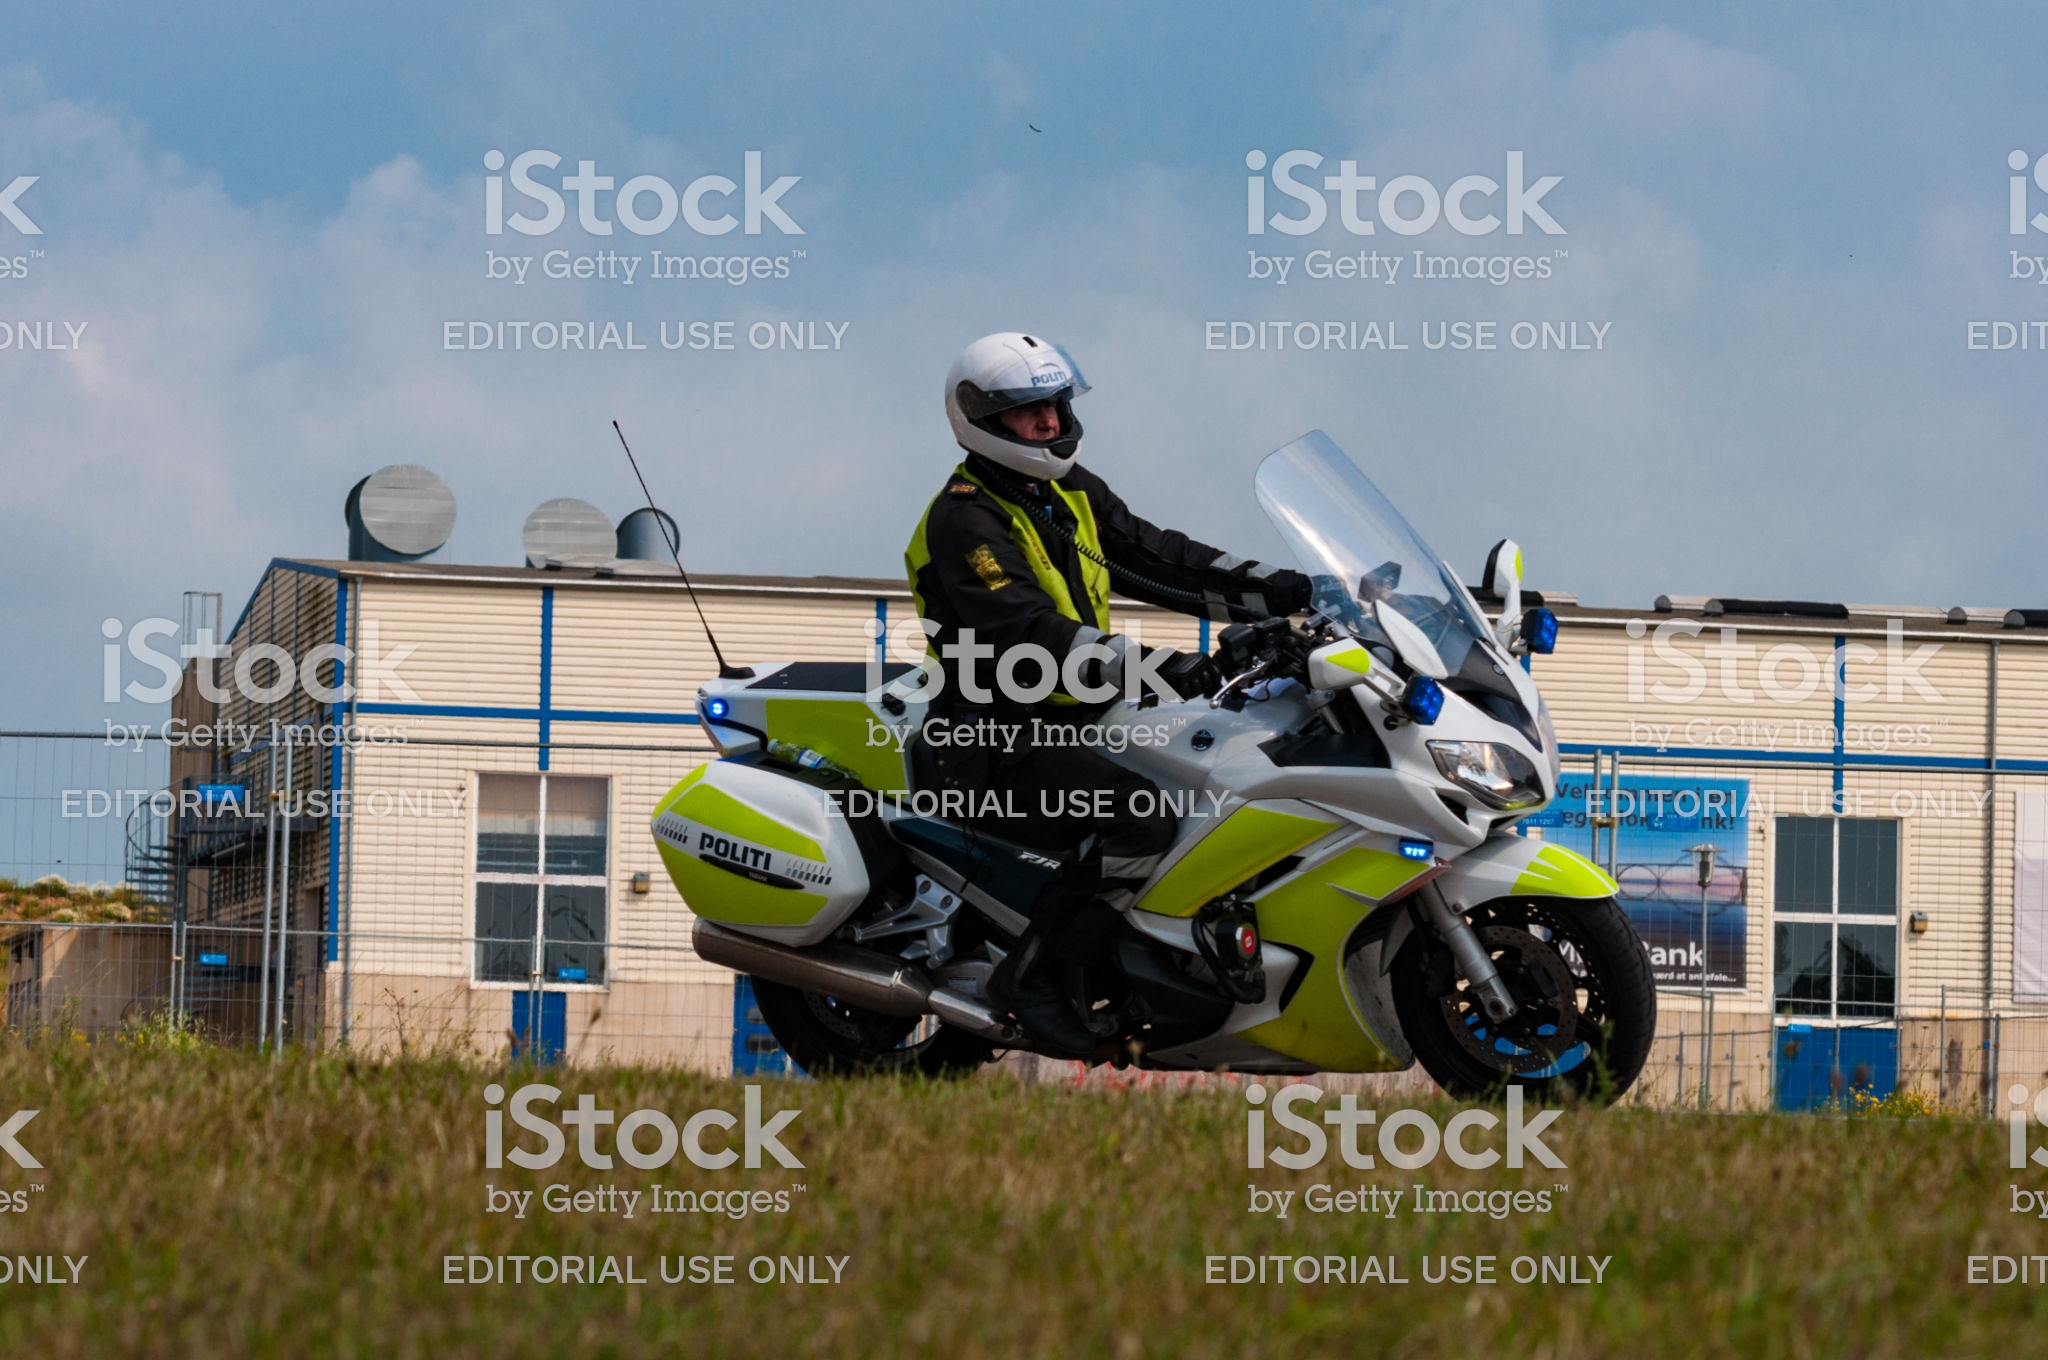helmet: (948, 316, 1106, 467)
